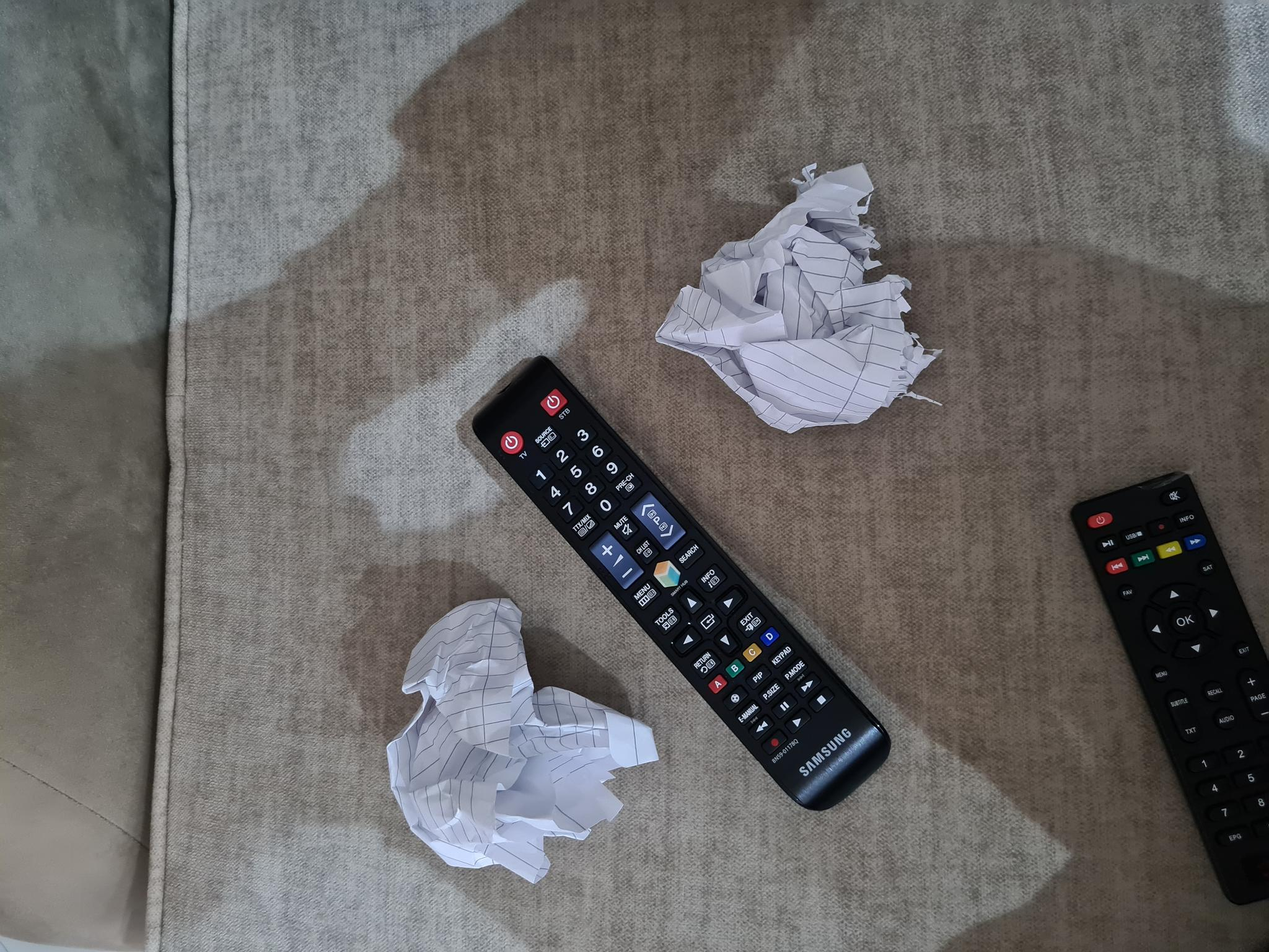Kertas: (48, 385, 373, 640), (502, 655, 784, 933)
